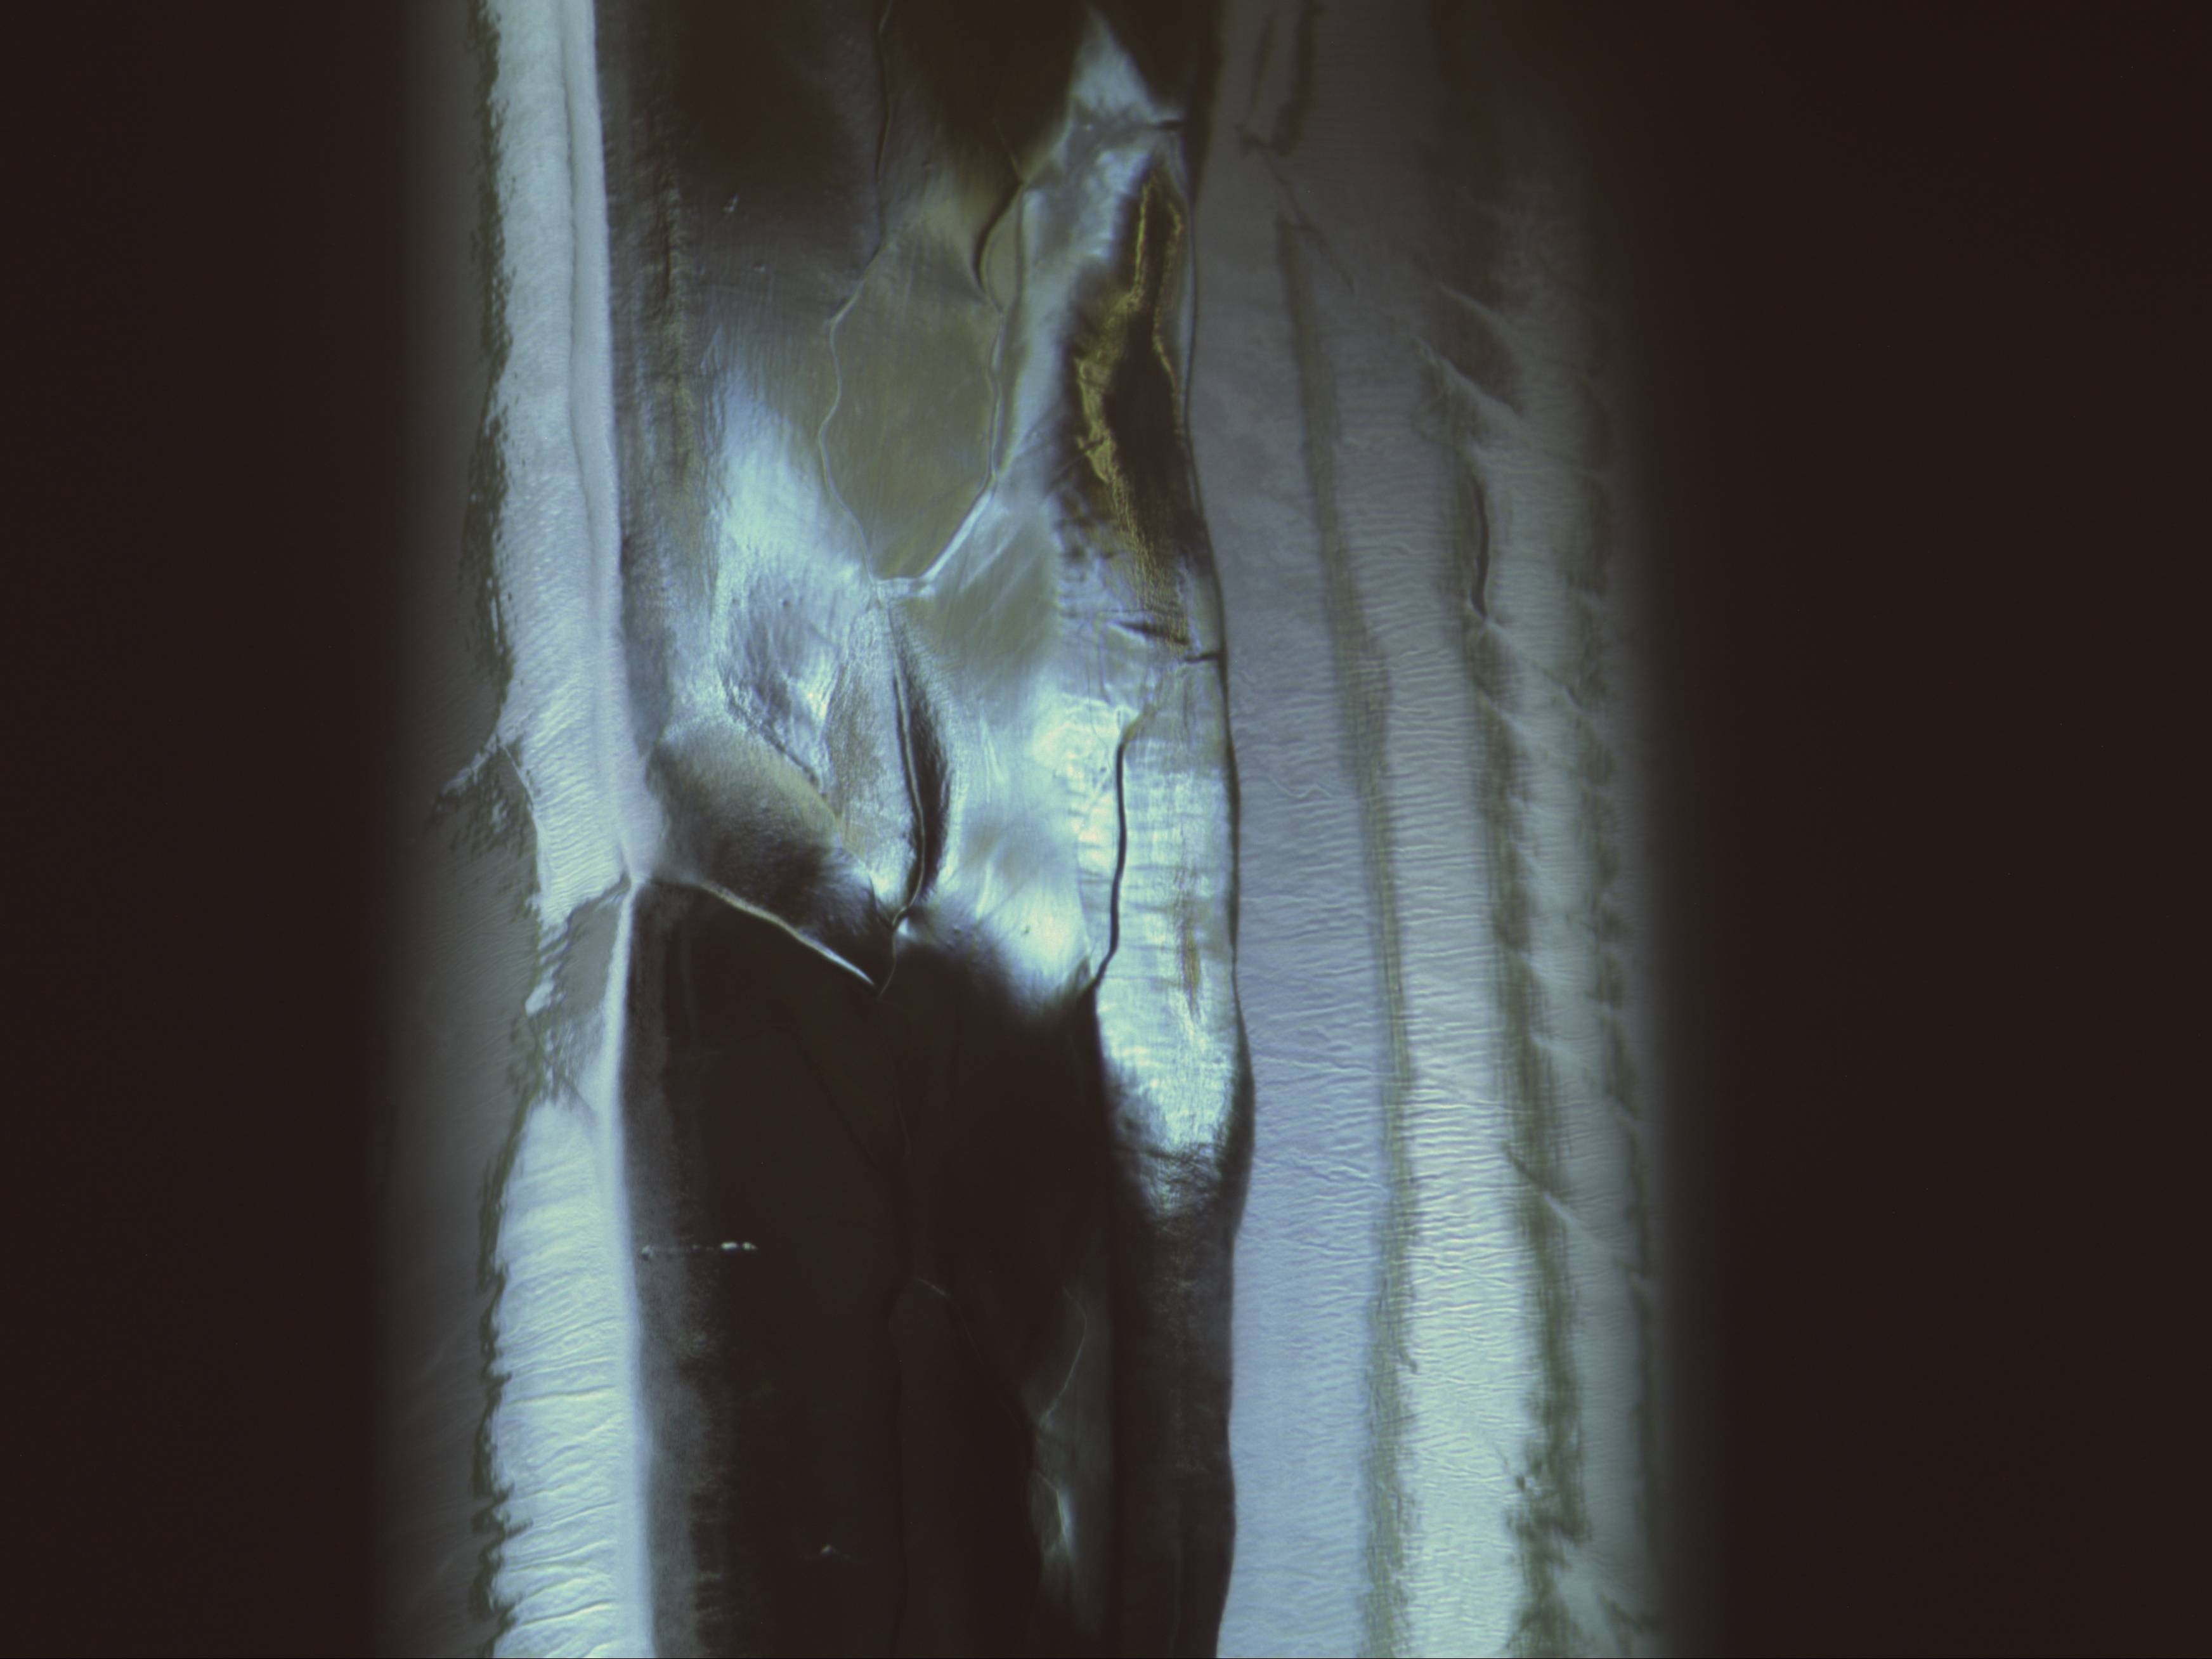defect: (631, 1230, 765, 1260)
